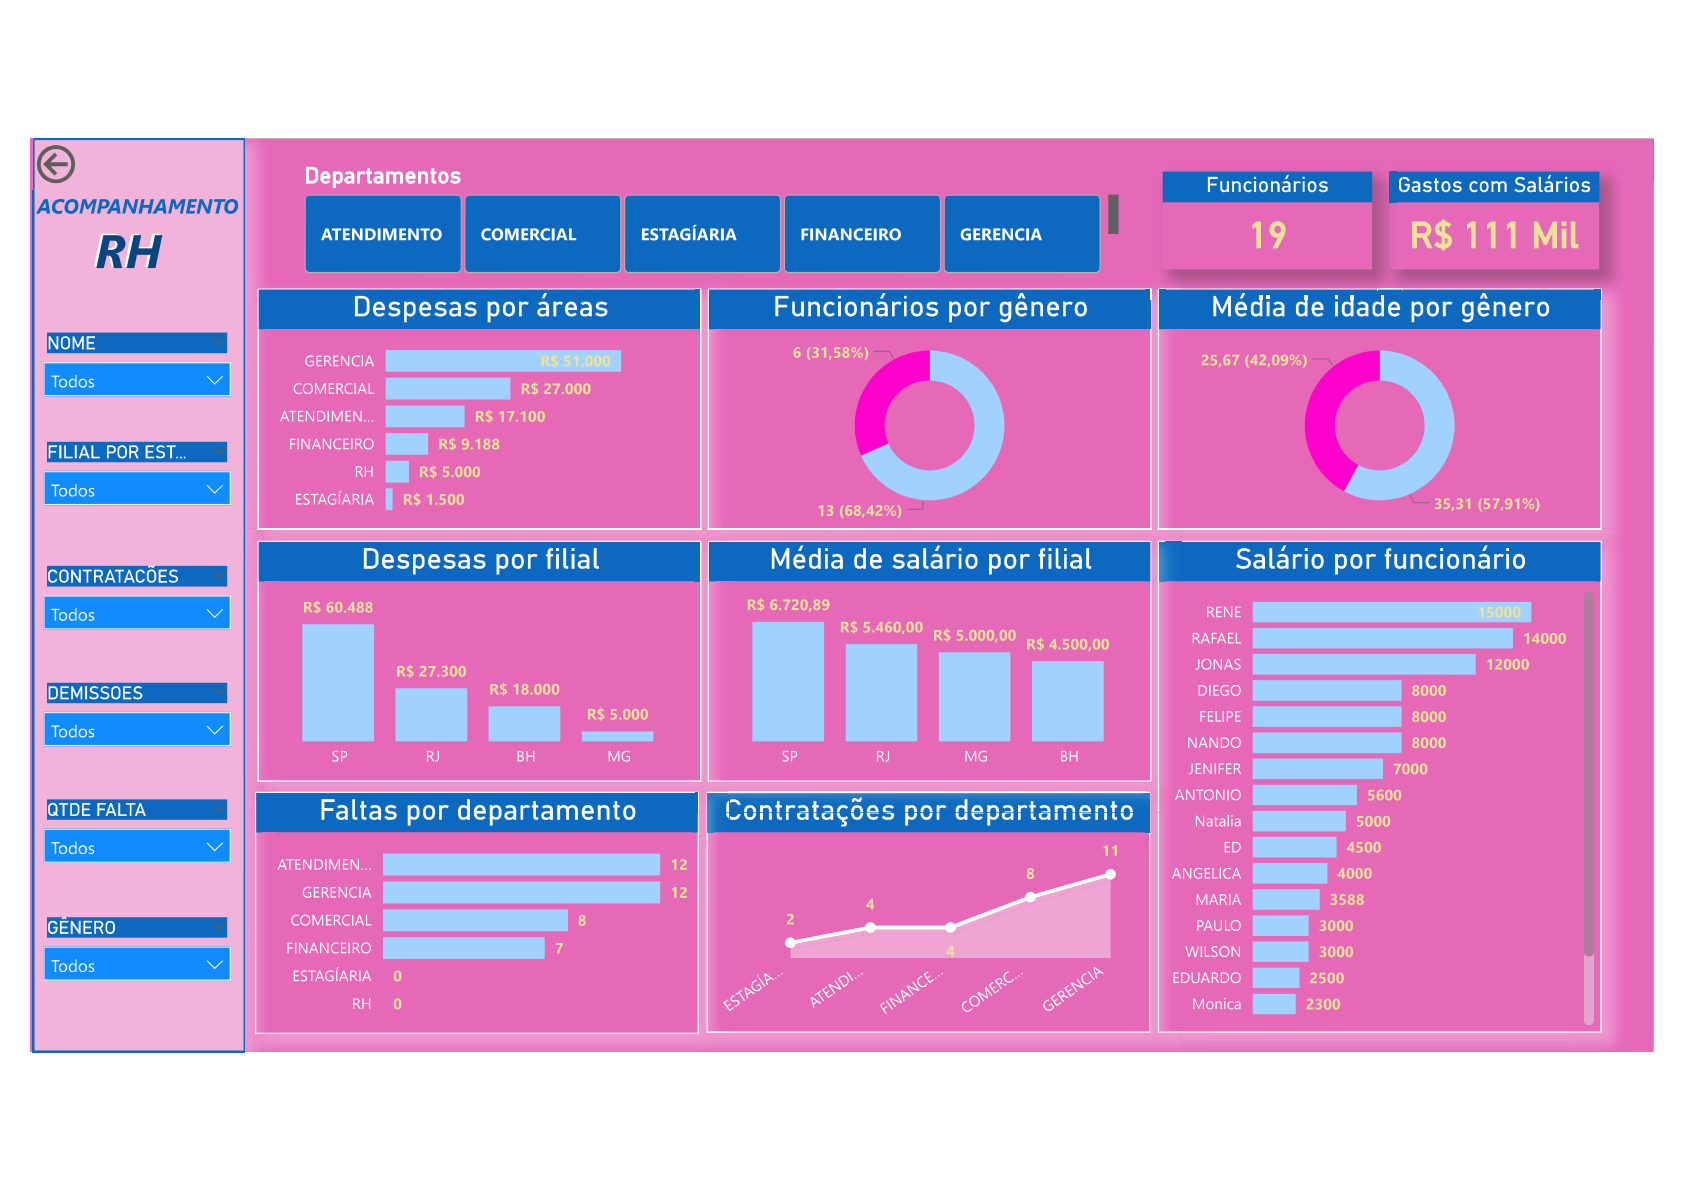

The dashboard page shown, as its layout file describes it:
{"tool":"powerbi","page":{"name":"Página 1","canvas":[1280,720],"ordinal":0},"visuals":[{"type":"shape","box":[2,0,167,720],"z":0},{"type":"barChart","title":"Despesas por áreas","fields":{"Category":["FUNCIONARIOS.DEPARTAMENTO"],"Y":["Sum(FUNCIONARIOS.SALARIO)"]},"box":[178.9,118,350,190],"z":1000},{"type":"donutChart","title":"Funcionários por gênero","fields":{"Category":["FUNCIONARIOS.SEXO"],"Y":["CountNonNull(FUNCIONARIOS.SEXO)"]},"box":[534.1,118,350,190],"z":2000},{"type":"donutChart","title":"Média de idade por gênero","fields":{"Category":["FUNCIONARIOS.SEXO"],"Y":["Avg(FUNCIONARIOS.IDADE)"]},"box":[889.3,118,350,190],"z":3000},{"type":"columnChart","title":"Despesas por filial","fields":{"Y":["Sum(FUNCIONARIOS.SALARIO)"],"Category":["FUNCIONARIOS.FILIAL"]},"box":[179.2,317,350,190],"z":4000},{"type":"areaChart","title":"Contratações por departamento","fields":{"Category":["FUNCIONARIOS.DEPARTAMENTO"],"Y":["Sum(FUNCIONARIOS.CONTRATACÕES FEITAS)"]},"box":[533,515,350,190],"z":5000},{"type":"barChart","title":"Salário por funcionário","fields":{"Category":["FUNCIONARIOS.NOME"],"Y":["FUNCIONARIOS.Soma_Salario"]},"box":[889,317,350,388],"z":6000},{"type":"barChart","title":"Faltas por departamento","fields":{"Category":["FUNCIONARIOS.DEPARTAMENTO"],"Y":["Sum(FUNCIONARIOS.QTDE FALTA)"]},"box":[177,515.4,350,190.8],"z":7000},{"type":"columnChart","title":"Média de salário por filial","fields":{"Y":["Avg(FUNCIONARIOS.SALARIO)"],"Category":["FUNCIONARIOS.FILIAL"]},"box":[534,317,350,190],"z":8000},{"type":"advancedSlicerVisual","fields":{"Values":["FUNCIONARIOS.DEPARTAMENTO"]},"box":[211,18,652,93],"z":9000},{"type":"actionButton","box":[0,0,100,40],"z":10000},{"type":"textbox","box":[0,37,182,41],"z":10000,"group":"g2"},{"type":"slicer","fields":{"Values":["FUNCIONARIOS.NOME"]},"box":[0,117.6,167.8,83.2],"z":11000},{"type":"slicer","fields":{"Values":["FUNCIONARIOS.FILIAL"]},"box":[0,209.7,167.8,83.2],"z":12000},{"type":"slicer","fields":{"Values":["FUNCIONARIOS.CONTRATACÕES FEITAS"]},"box":[0,301.8,167.8,83.2],"z":13000},{"type":"slicer","fields":{"Values":["FUNCIONARIOS.DEMISSOES"]},"box":[0,393.9,167.8,83.2],"z":14000},{"type":"slicer","fields":{"Values":["FUNCIONARIOS.QTDE FALTA"]},"box":[0,486,167.8,83.2],"z":15000},{"type":"slicer","fields":{"Values":["FUNCIONARIOS.SEXO"]},"box":[0,578.1,167.8,83.2],"z":16000},{"type":"card","title":"Gastos com Salários","fields":{"Values":["Sum(FUNCIONARIOS.SALARIO)"]},"box":[1072,18,165,77],"z":17000},{"type":"textbox","box":[44,56,78.3,60.2],"z":17000,"group":"g1"},{"type":"card","title":"Funcionários","fields":{"Values":["CountNonNull(FUNCIONARIOS.NOME)"]},"box":[893.5,18.5,164.1,76.1],"z":18000},{"type":"textbox","box":[45.6,56.8,78.3,60.2],"z":18000,"group":"g1"},{"type":"group","id":"g1","title":"Grupo 1","box":[44,56,80,61],"z":18002,"group":"g2"},{"type":"group","id":"g2","title":"Grupo 2","box":[0,37,182,80],"z":19000}]}

Visuals, with their boxes in screenshot pixels (x1, y1, x2, y2):
shape: [29,167,238,1068]
"Despesas por áreas" barChart: [250,314,688,552]
"Funcionários por gênero" donutChart: [695,314,1133,552]
"Média de idade por gênero" donutChart: [1139,314,1577,552]
"Despesas por filial" columnChart: [251,563,689,801]
"Contratações por departamento" areaChart: [693,811,1131,1049]
"Salário por funcionário" barChart: [1139,563,1577,1049]
"Faltas por departamento" barChart: [248,812,686,1050]
"Média de salário por filial" columnChart: [695,563,1133,801]
advancedSlicerVisual - FUNCIONARIOS.DEPARTAMENTO: [290,189,1106,306]
actionButton: [26,167,151,217]
textbox: [26,213,254,264]
slicer - FUNCIONARIOS.NOME: [26,314,236,418]
slicer - FUNCIONARIOS.FILIAL: [26,429,236,533]
slicer - FUNCIONARIOS.CONTRATACÕES FEITAS: [26,544,236,648]
slicer - FUNCIONARIOS.DEMISSOES: [26,660,236,764]
slicer - FUNCIONARIOS.QTDE FALTA: [26,775,236,879]
slicer - FUNCIONARIOS.SEXO: [26,890,236,994]
"Gastos com Salários" card: [1368,189,1574,286]
textbox: [81,237,179,312]
"Funcionários" card: [1144,190,1350,285]
textbox: [83,238,181,313]
"Grupo 1" group: [81,237,181,313]
"Grupo 2" group: [26,213,254,313]
